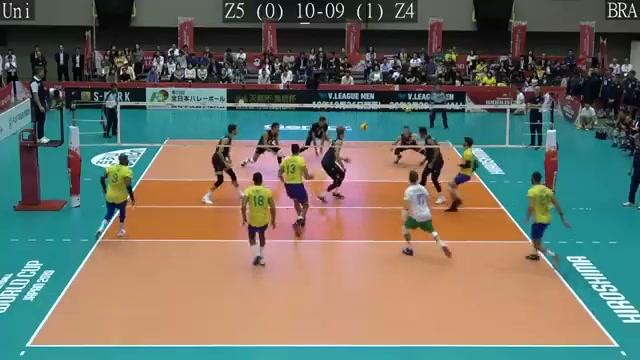ball: (360, 119, 370, 132)
